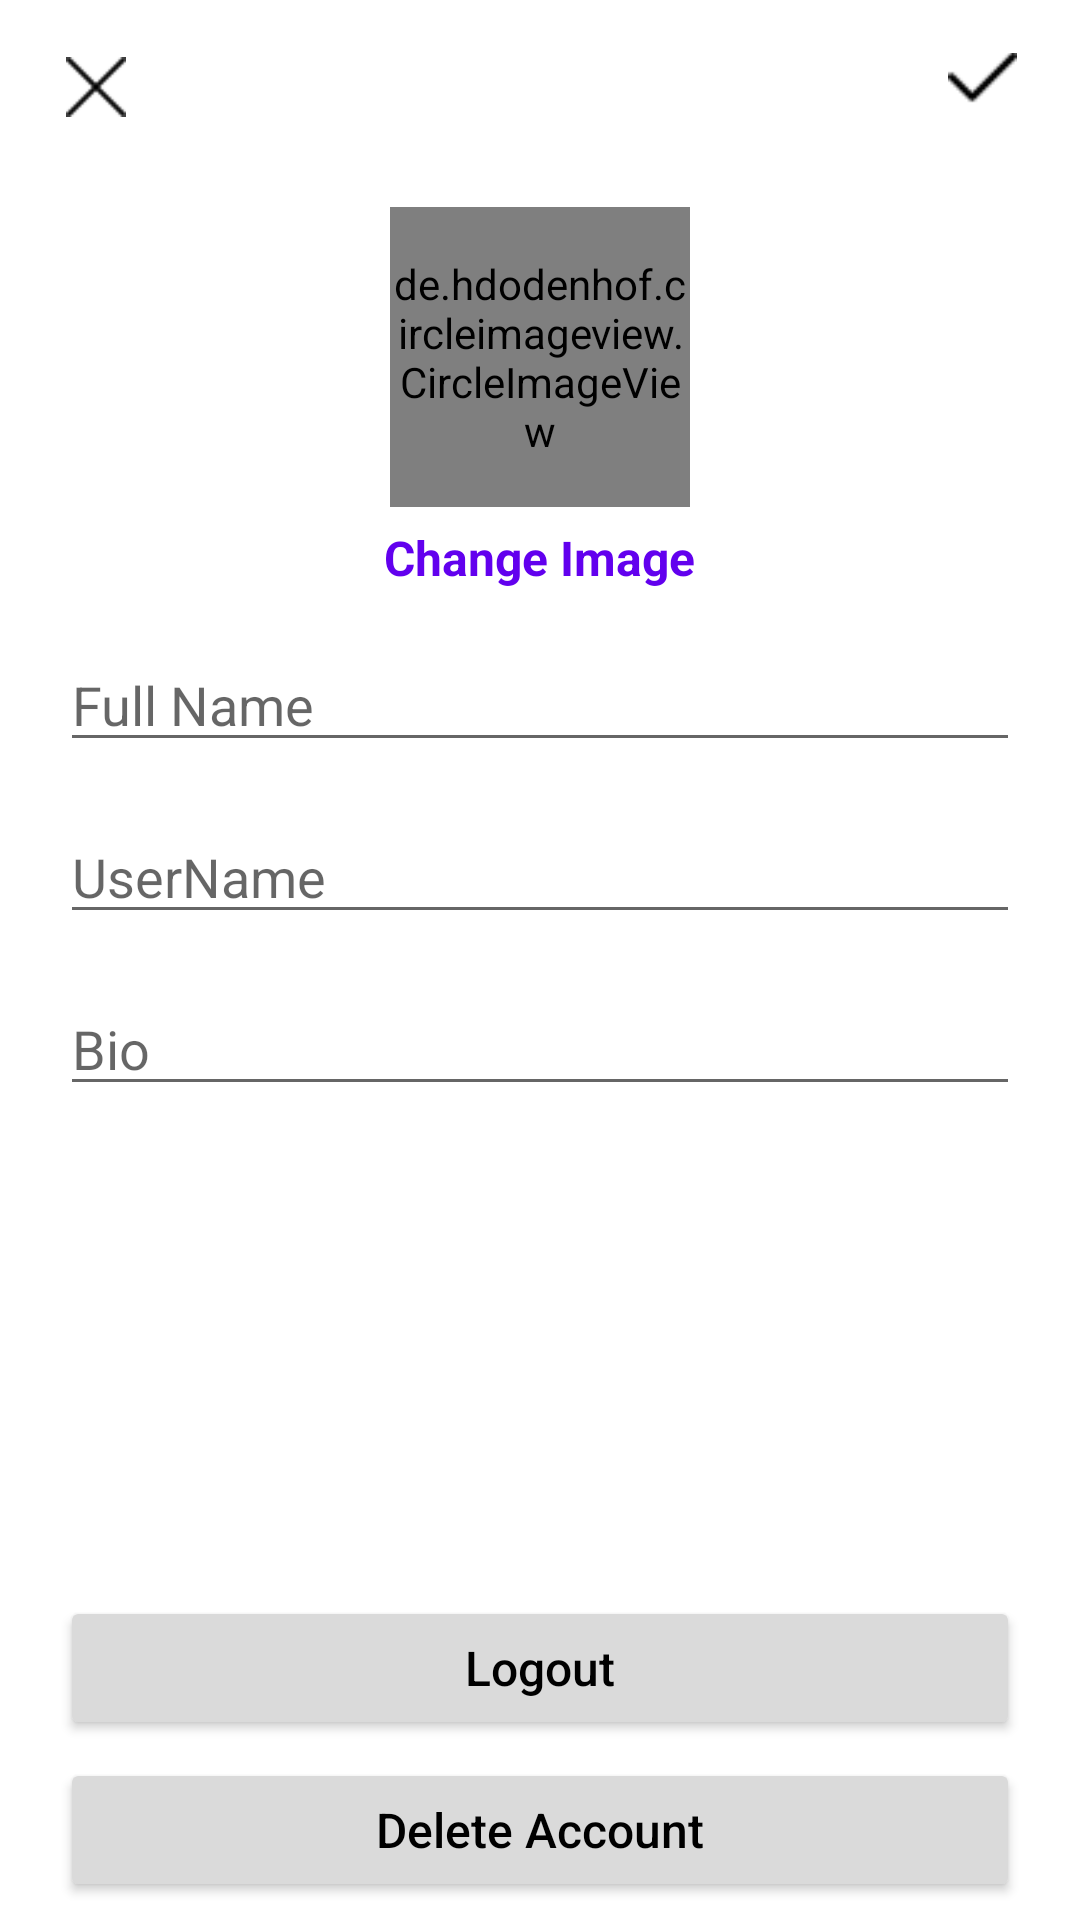

Named icons in this screenshot (1080*1920) and their centers, [x,y]:
cancel: [96,87]
save edit profile: [982,77]
